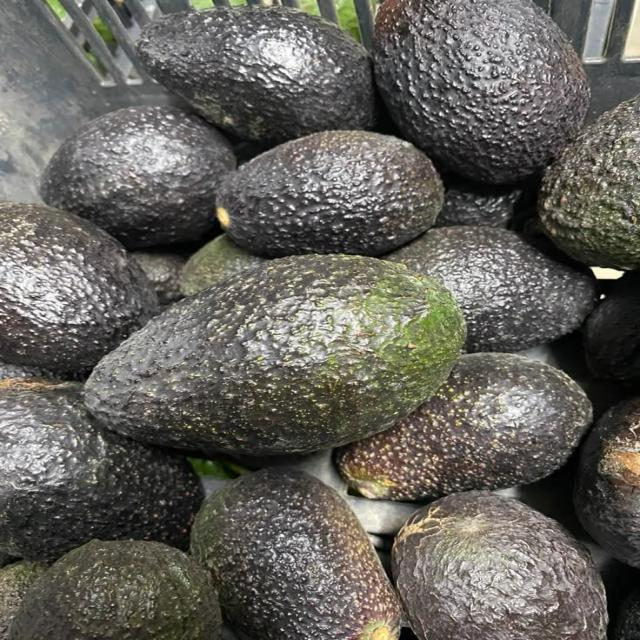avocado: (86, 256, 465, 455), (374, 0, 589, 183), (338, 353, 592, 500), (0, 380, 202, 560), (191, 469, 400, 639), (138, 6, 375, 143), (393, 492, 607, 639), (217, 131, 443, 257), (41, 106, 235, 247), (0, 203, 157, 373), (385, 226, 596, 352), (9, 540, 221, 639), (539, 97, 639, 269), (574, 397, 639, 567), (584, 272, 639, 384), (434, 175, 537, 227), (180, 234, 266, 295), (0, 561, 47, 639), (130, 251, 186, 305), (613, 590, 639, 639), (0, 362, 57, 380), (0, 552, 14, 567)
